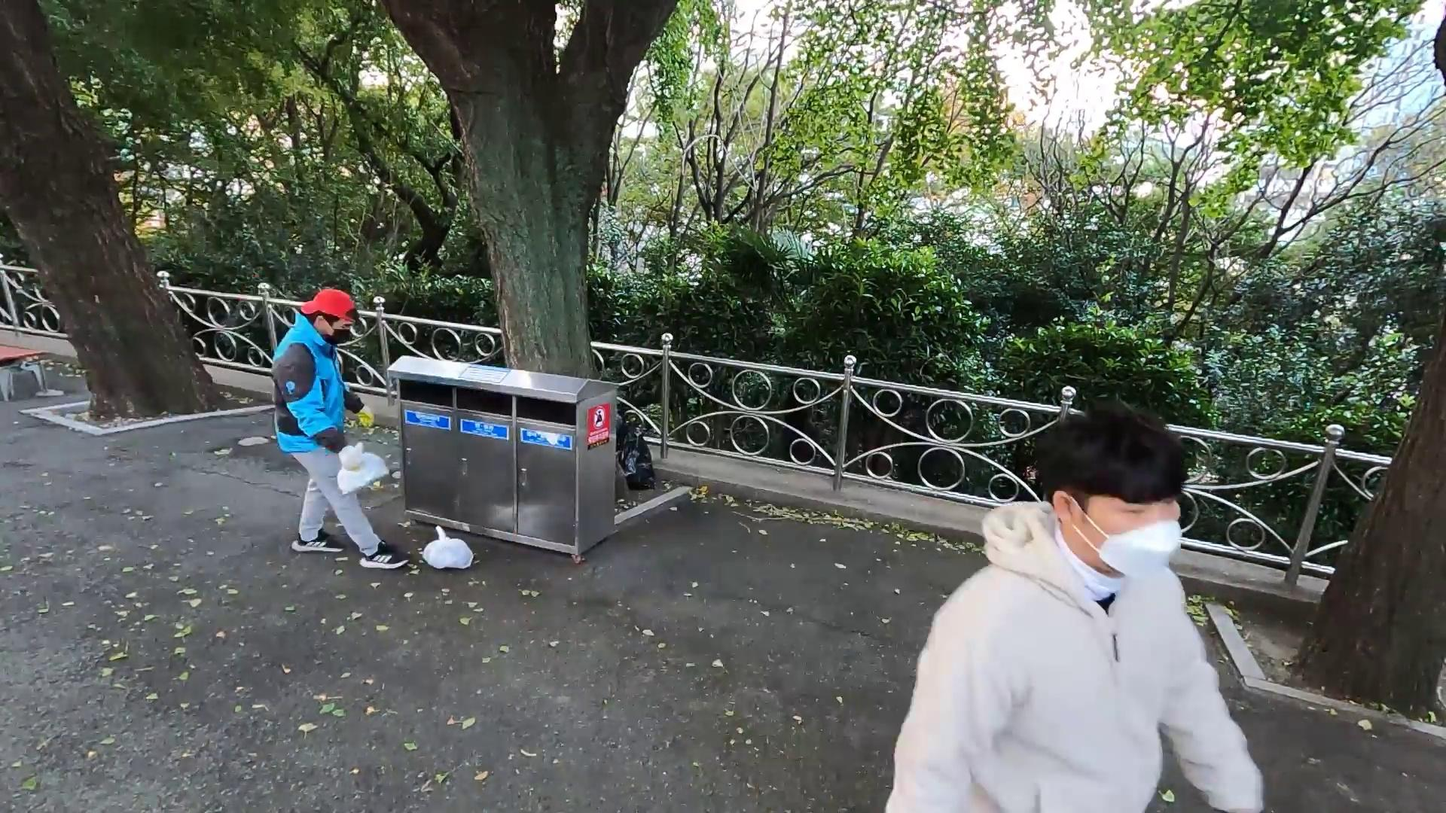person: (879, 397, 1259, 813), (275, 280, 411, 573)
trash: (616, 409, 663, 494), (424, 523, 477, 574), (336, 446, 388, 491)
